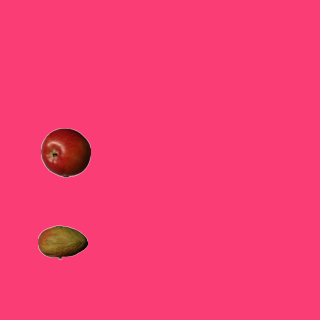Apple Braeburn: (40, 127, 90, 177)
Papaya: (37, 217, 87, 267)
